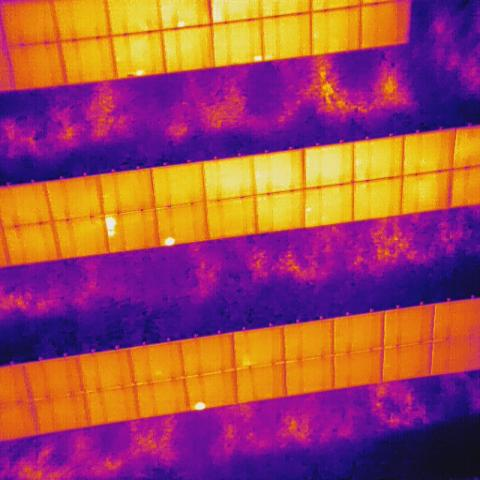fault: (105, 212, 117, 238), (192, 400, 207, 411), (162, 234, 176, 245), (252, 54, 272, 60), (176, 18, 185, 28), (134, 69, 144, 77)
